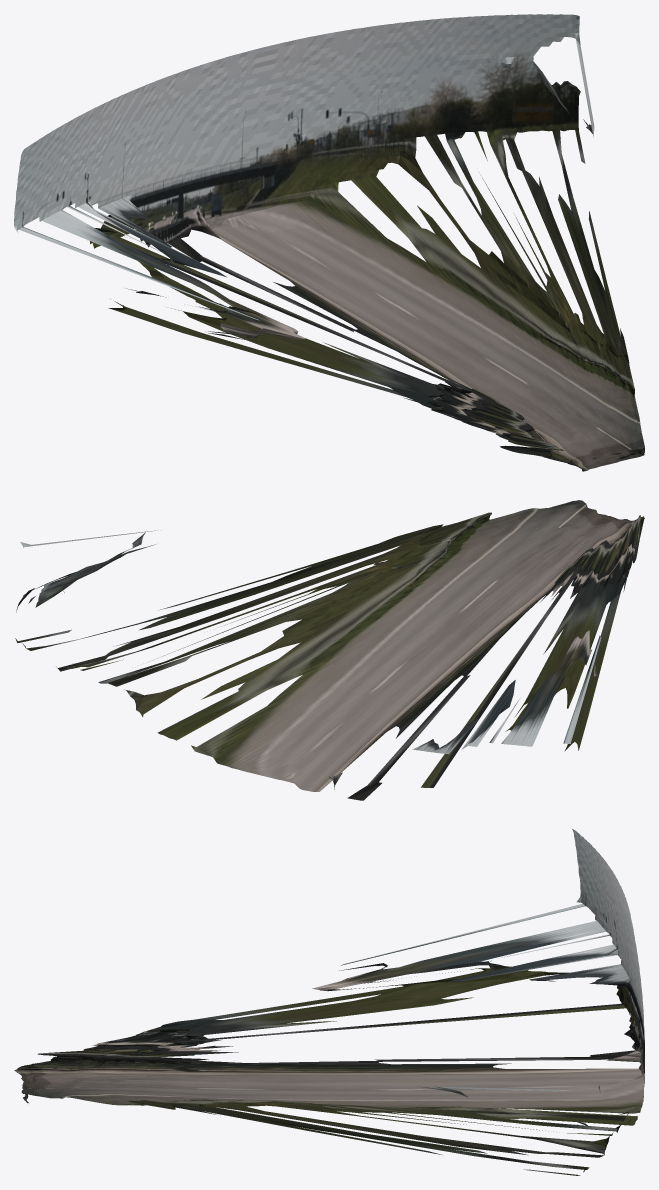
3 views of the same model, one above another, from view 1: azimuth 30°, elevation 25°; view 2: azimuth 150°, elevation 25°; view 3: azimuth 270°, elevation 25° (orthographic). The views are drawn at different scales.
Visible parts, largest first — view 1: defaultobject; view 2: defaultobject; view 3: defaultobject.
Boxes of the visible parts, x1=… form: defaultobject: x1=14, y1=14, x2=644, y2=471; defaultobject: x1=15, y1=500, x2=644, y2=800; defaultobject: x1=14, y1=829, x2=644, y2=1175.
Size of the model in its own units: 41.08 by 12.27 by 44.83.
Materials: 1 (1 with a texture image).
